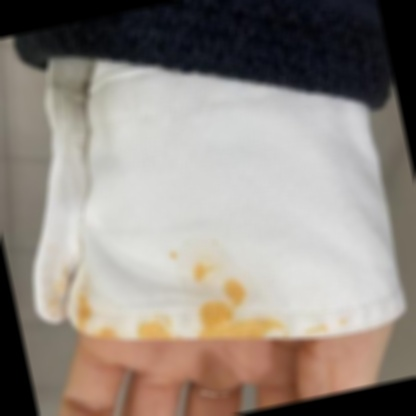kimchi: (188, 291, 249, 339), (66, 266, 104, 325), (223, 312, 285, 338), (137, 307, 183, 341), (47, 278, 75, 316), (221, 273, 251, 307), (189, 256, 221, 284), (305, 320, 331, 334), (99, 326, 117, 338), (337, 316, 347, 330), (165, 253, 177, 264), (211, 235, 221, 248), (282, 327, 293, 338)
